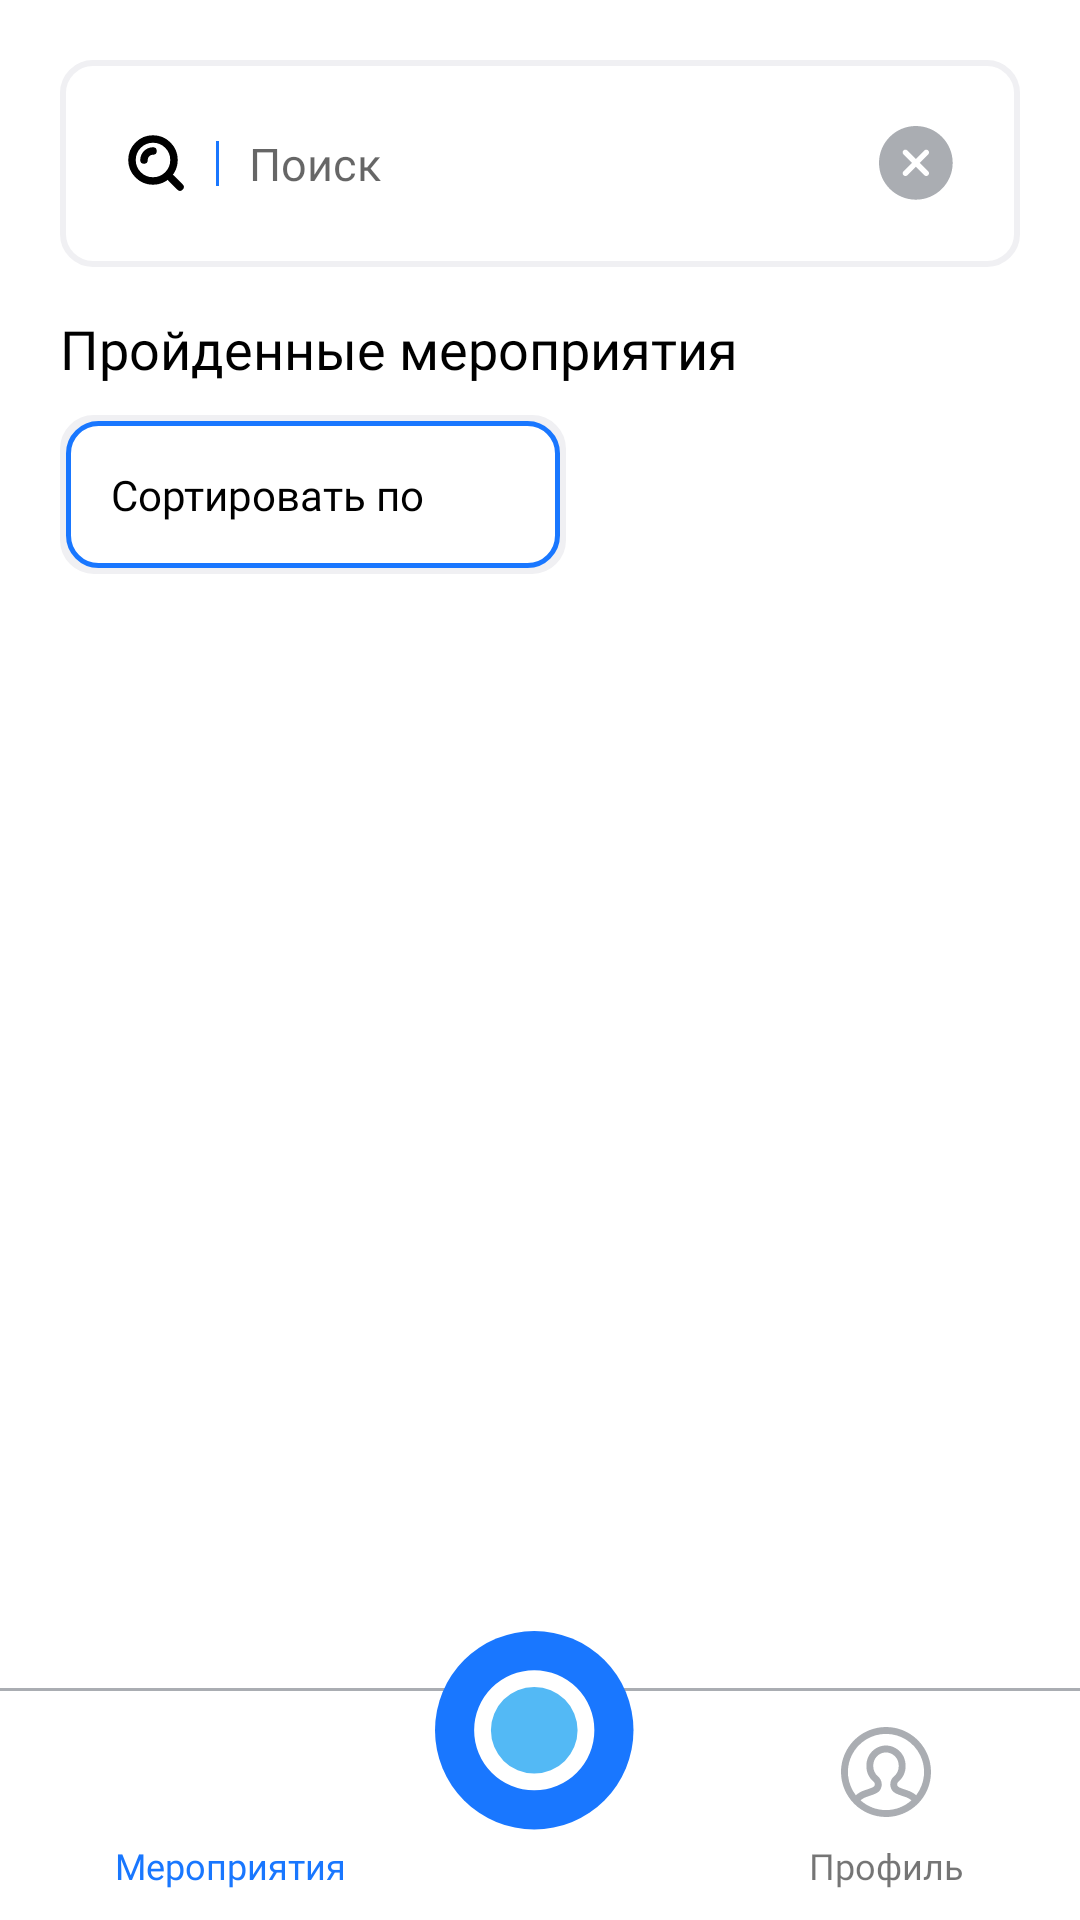

Icons on this 1080px×1920px Android screen, each with the point to tap as (x,y):
delete text for input: (916,163)
lupa: (156,163)
